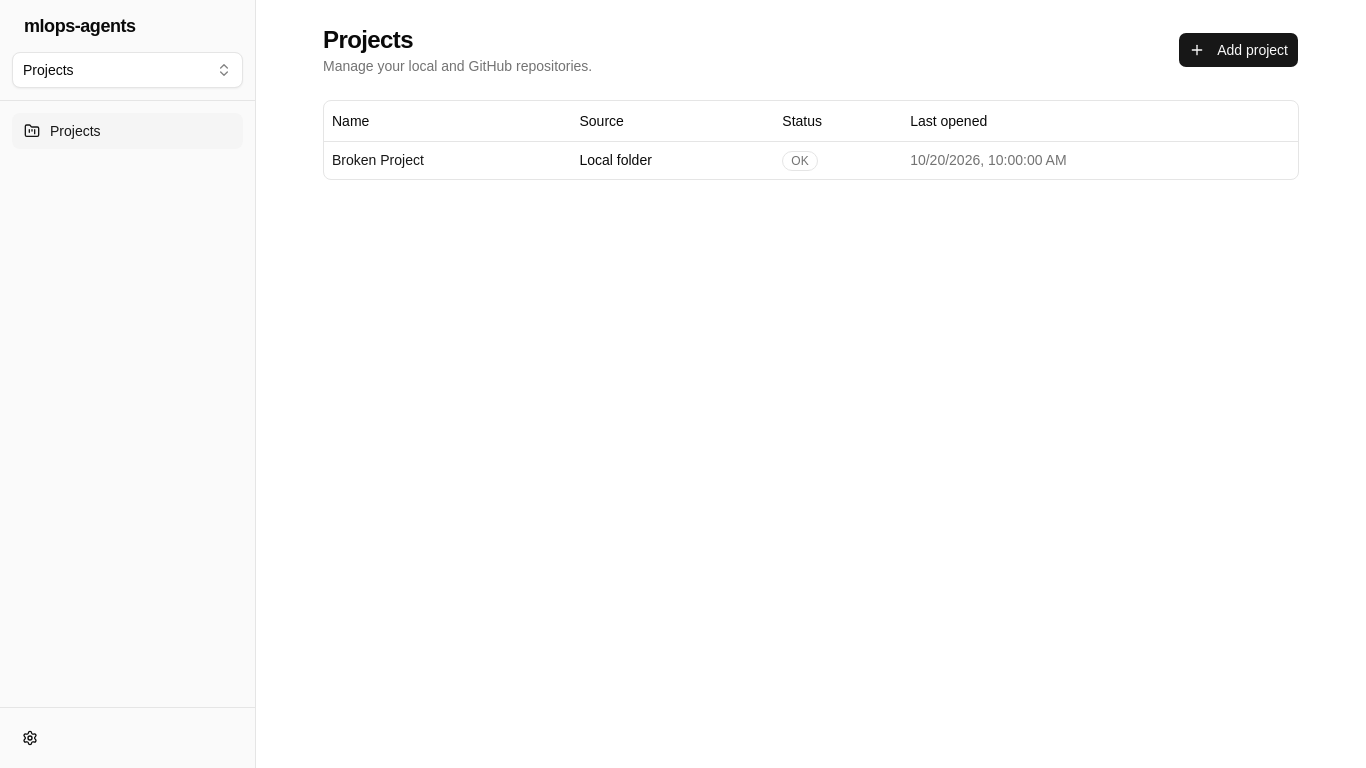
Scenario: ProjectsPage › shows error on the row whose open failed
Click the button "Broken Project" at point(378, 160), box [332,150,424,170]
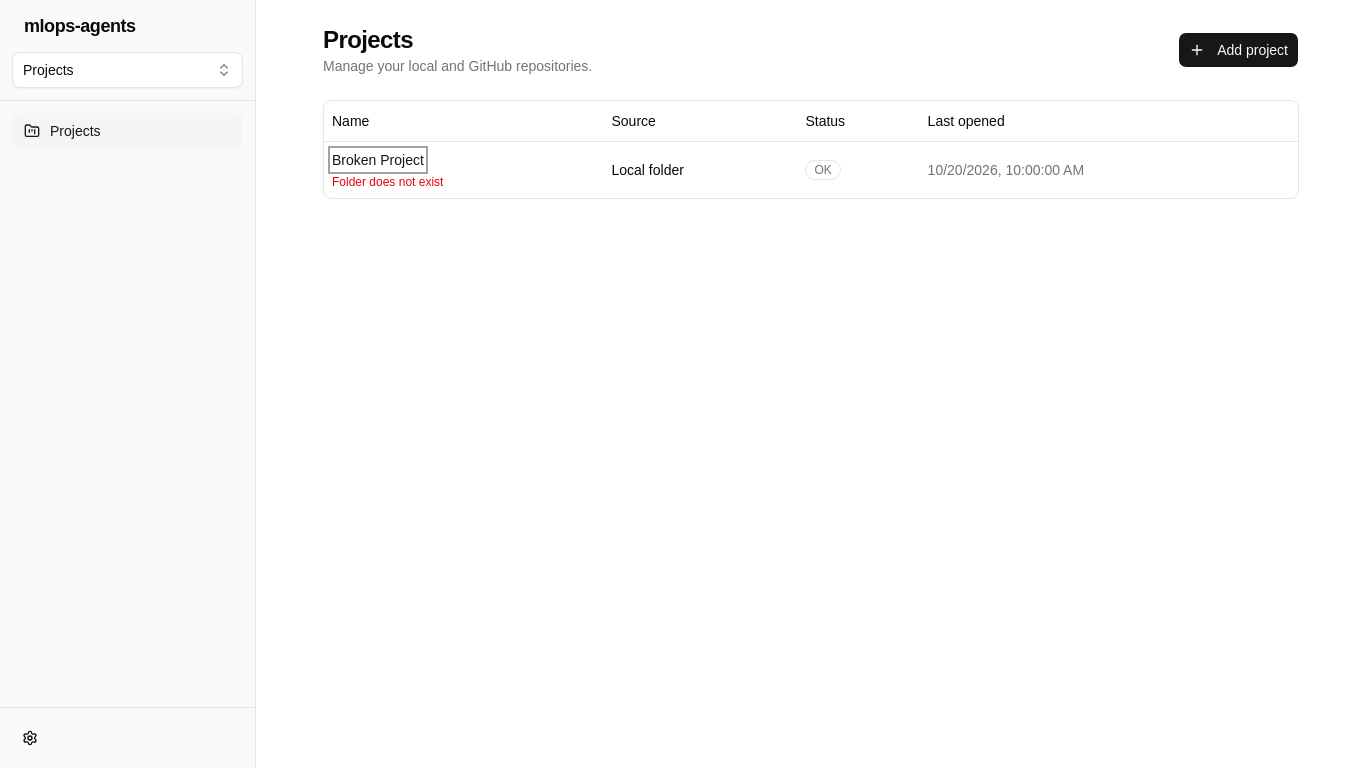
Expected: the message reads "Folder does not exist", [332,174,443,188]
